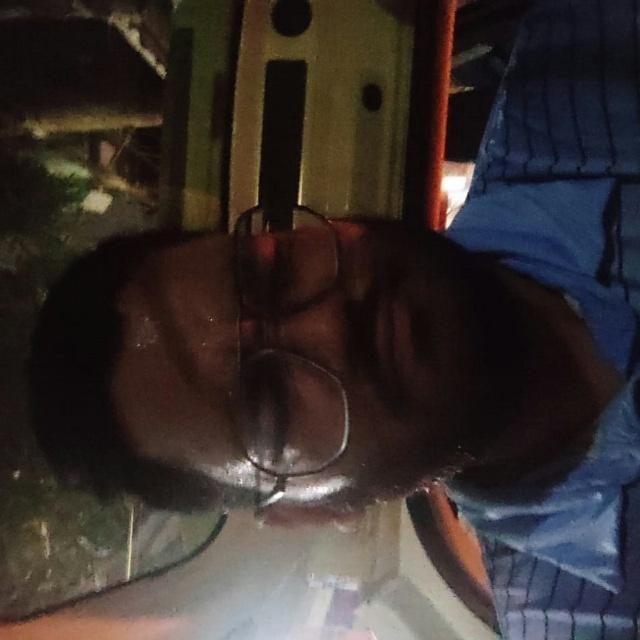Disgust: (54, 214, 528, 525)
